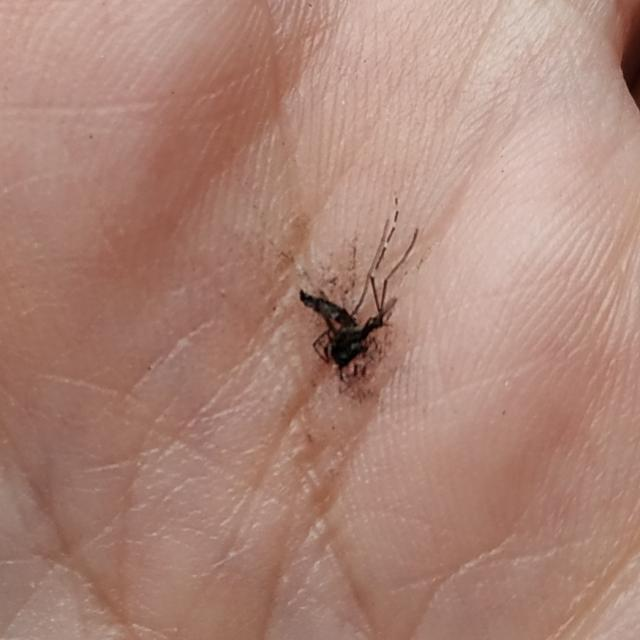albopictus: (271, 191, 422, 390)
